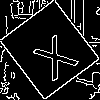X: (24, 25, 80, 83)
